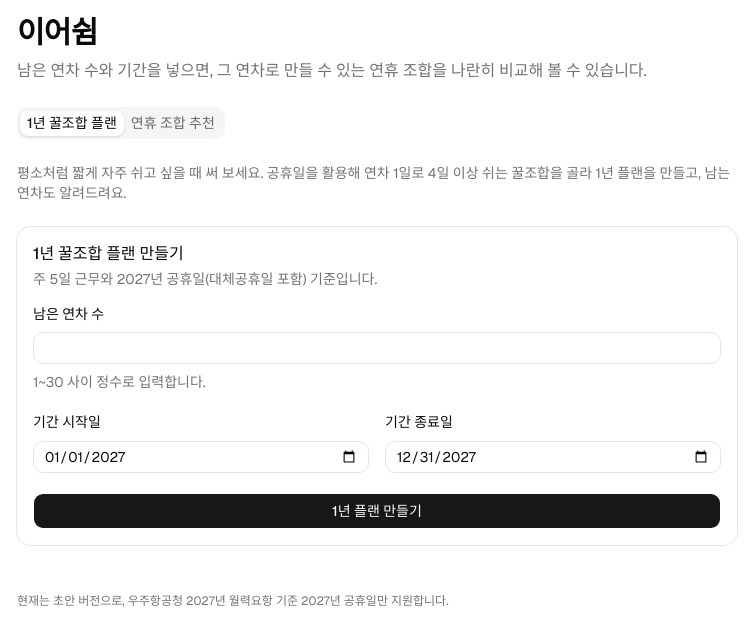
Test case: 연휴 조합 추천 화면 › 연차 수 0를 넣으면 결과 없이 1~30 안내를 보여준다
Click the tab "연휴 조합 추천" at (173, 123), box [124,110,222,136]
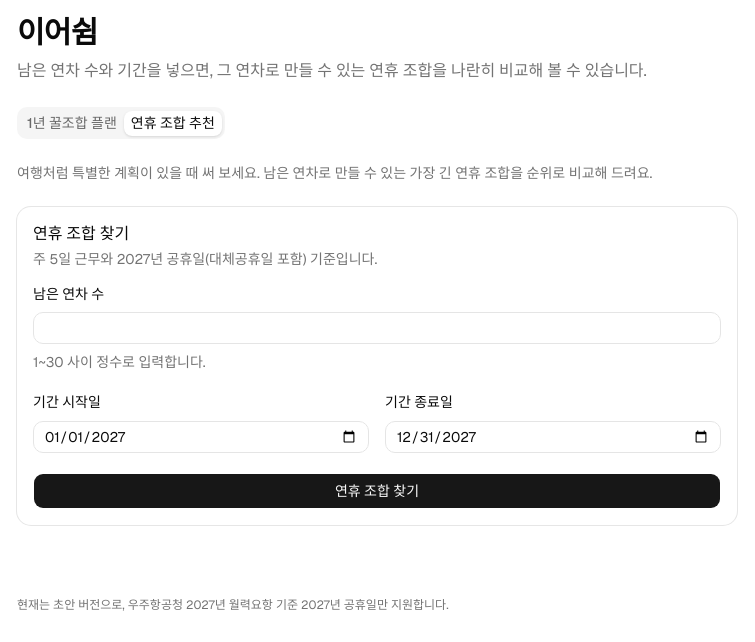
Type "0" into the field labelled "남은 연차 수" at (377, 328), box [33,312,721,344]
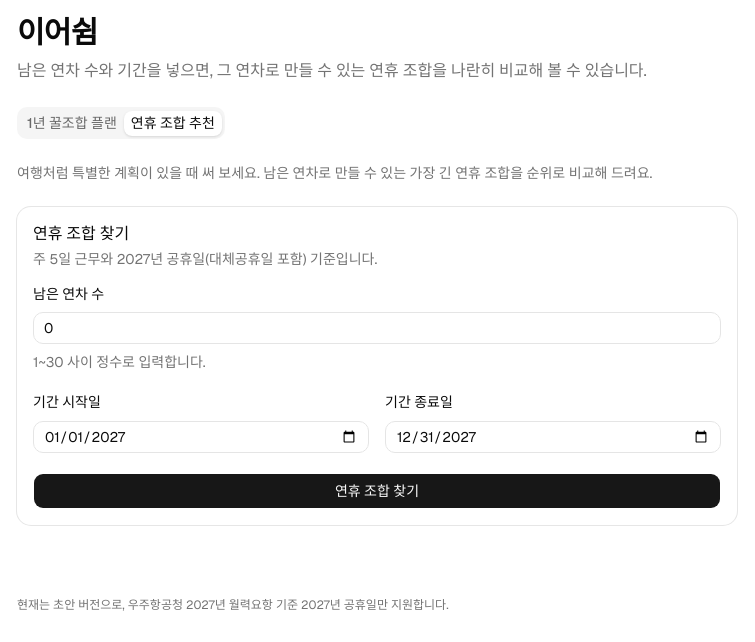
Click the button "연휴 조합 찾기" at (377, 490), box [33,472,721,508]
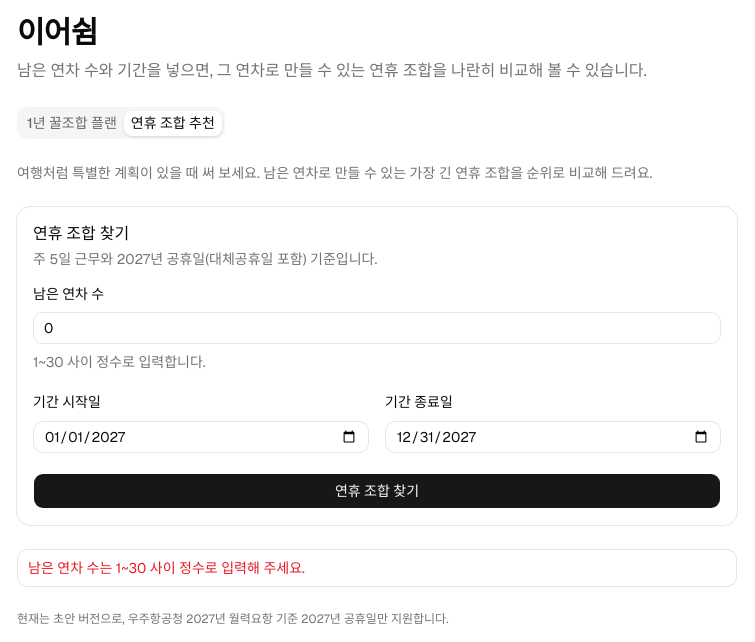
Expected: the message shows "1~30", [28,558,305,576]
